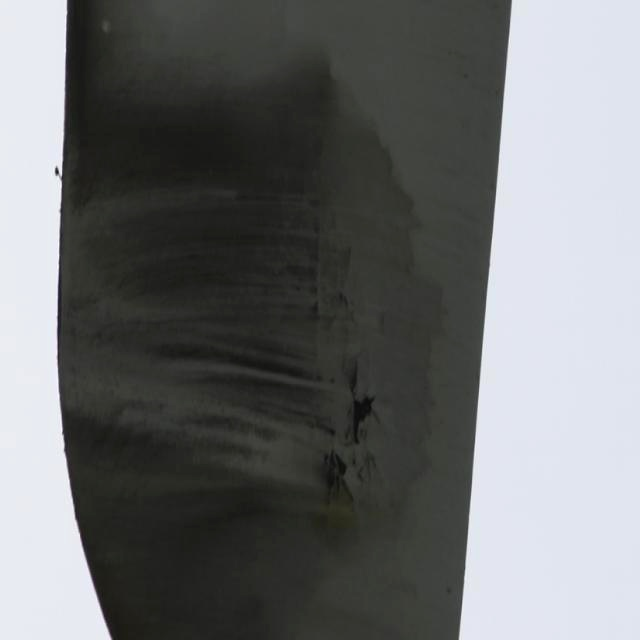Burn Mark: (56, 4, 319, 640)
Coating_defects: (320, 352, 382, 503)
